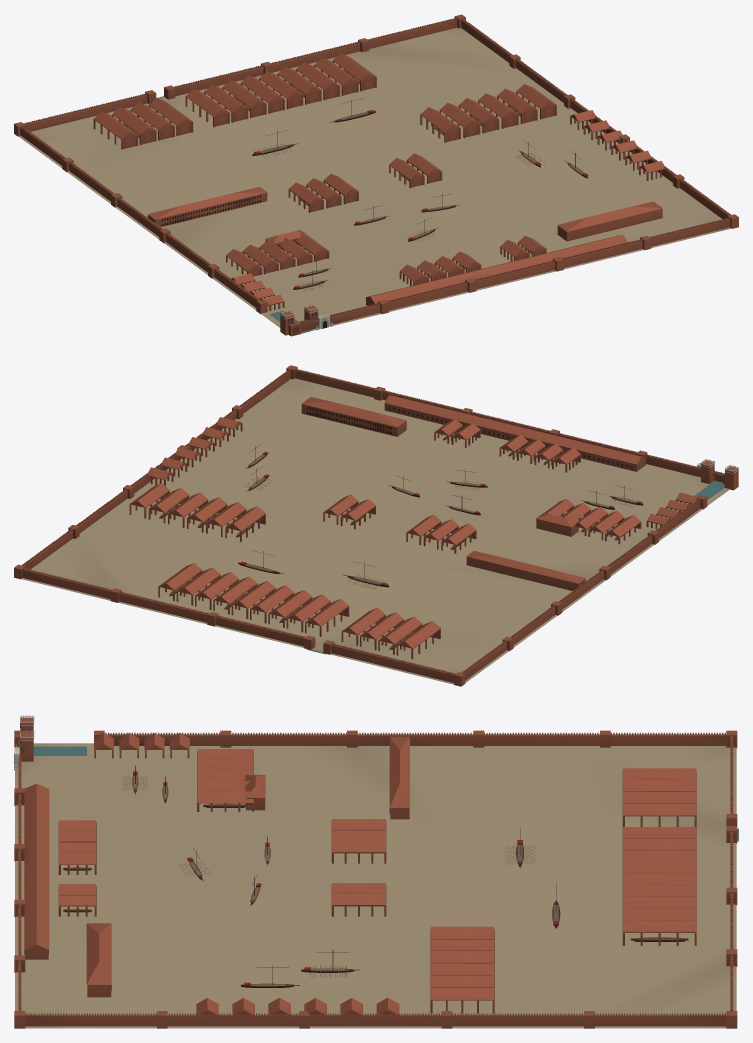
Rendered from arsenale.glb.
The picture shows the model from 3 angles, top to bottom: view 1: azimuth 30°, elevation 25°; view 2: azimuth 150°, elevation 25°; view 3: azimuth 270°, elevation 25°; orthographic projection. The views are drawn at different scales.
Visible parts, largest first — view 1: p0_ground, p2_slipways, p1_gates, p3_galleys; view 2: p0_ground, p2_slipways, p1_gates, p3_galleys; view 3: p0_ground, p2_slipways, p1_gates, p3_galleys.
Boxes of the visible parts, x1,y1,x2,y2 form: p0_ground: (19,27,731,333); p2_slipways: (93,53,665,311); p1_gates: (14,14,738,336); p3_galleys: (252,98,588,290); p0_ground: (21,378,729,684); p2_slipways: (129,395,698,659); p1_gates: (14,365,738,686); p3_galleys: (238,444,643,589); p0_ground: (15,743,738,1028); p2_slipways: (24,733,696,1015); p1_gates: (14,715,737,1028); p3_galleys: (123,765,560,987).
Bounding box in the file's own units: 565 × 24.22 × 603.
